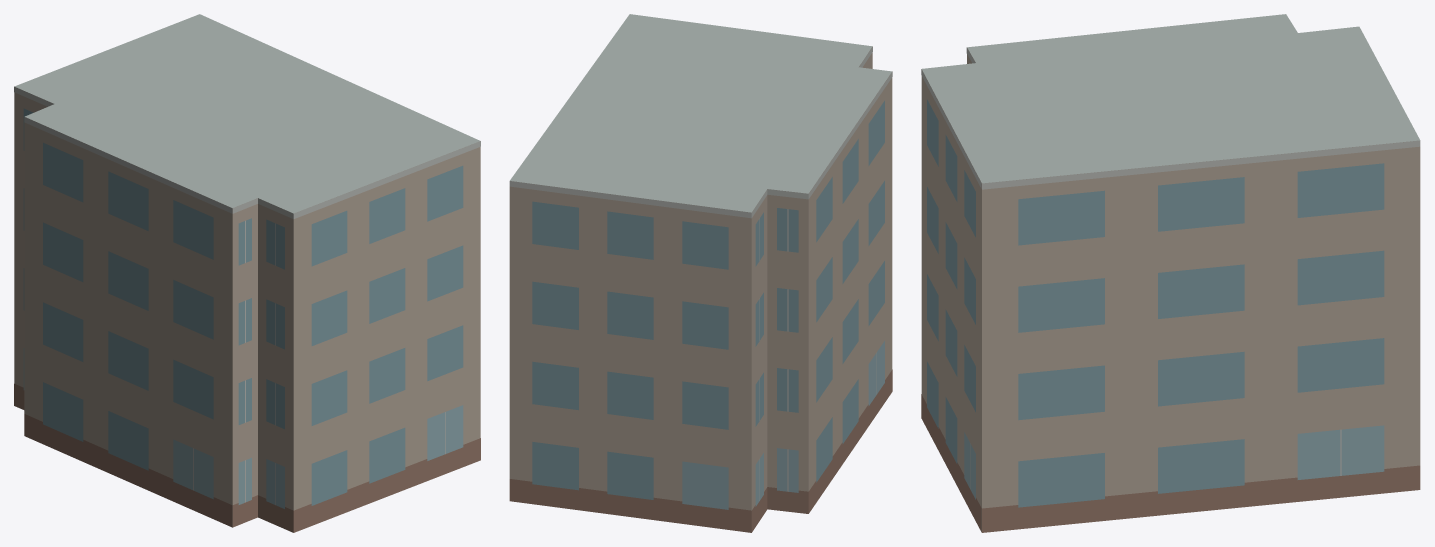
File: survey-upis-32915366.glb
The picture shows the model from 3 angles, left to right: view 1: azimuth 30°, elevation 25°; view 2: azimuth 150°, elevation 25°; view 3: azimuth 270°, elevation 25°; orthographic projection. The views are drawn at different scales.
Visible parts, largest first — view 1: survey-upis-32915366.tmp; view 2: survey-upis-32915366.tmp; view 3: survey-upis-32915366.tmp.
Part boxes in pixels (x1,y1,x2,y2): survey-upis-32915366.tmp: (14, 14, 480, 532); survey-upis-32915366.tmp: (509, 14, 892, 532); survey-upis-32915366.tmp: (921, 14, 1420, 532).
Bounding box in the file's own units: 14.21 × 13.65 × 17.67.
